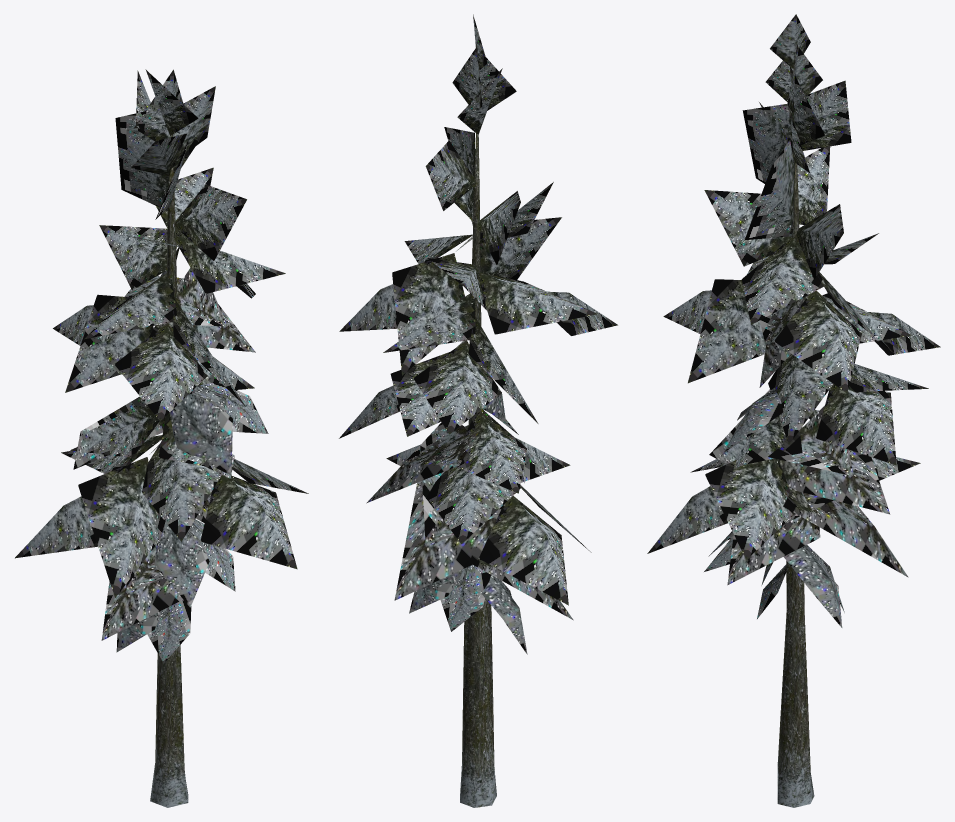
Rendered from treepineforestsnow04-transformed.glb.
3 renders of one model, left to right at view 1: azimuth 30°, elevation 25°; view 2: azimuth 150°, elevation 25°; view 3: azimuth 270°, elevation 25°, orthographic.
Visible parts, largest first — view 1: default; view 2: default; view 3: default.
Boxes of the visible parts, x1,y1,x2,y2 form: default: (15,69,308,807); default: (339,14,617,807); default: (647,14,940,807).
Bounding box in the file's own units: 6.93 × 21.73 × 7.36.
2 materials, 2 textured.
